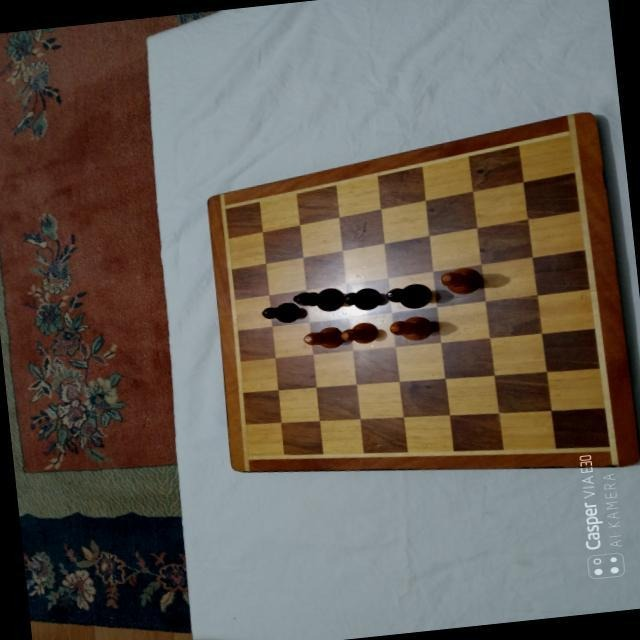black-bishop: (291, 285, 345, 314), (384, 281, 432, 311)
black-pawn: (340, 284, 380, 311), (260, 299, 300, 324)
white-bishop: (438, 264, 482, 295), (387, 314, 433, 342)
white-pawn: (300, 325, 343, 351), (338, 319, 378, 345)
